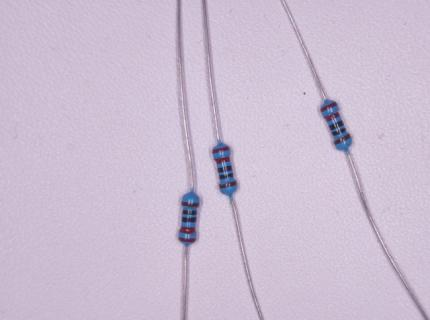Red band: (320, 102, 338, 112), (324, 112, 340, 122), (212, 146, 230, 154), (214, 156, 230, 164), (179, 226, 196, 233), (179, 237, 196, 242)
